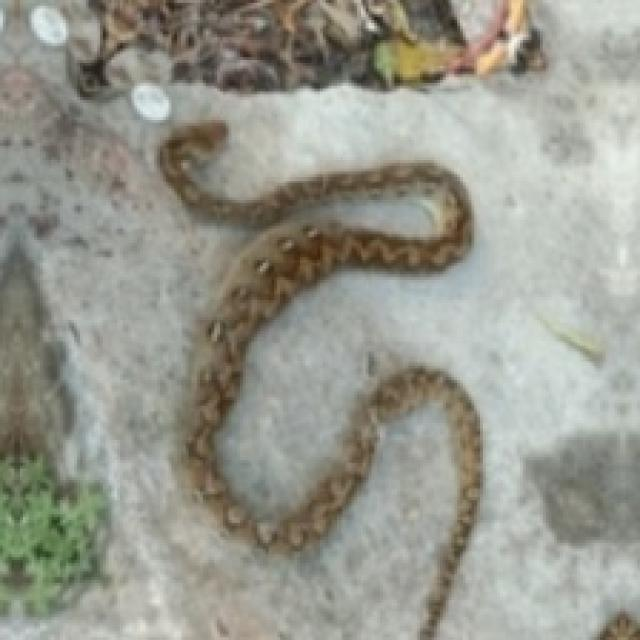reticulated python: (157, 120, 480, 637)
